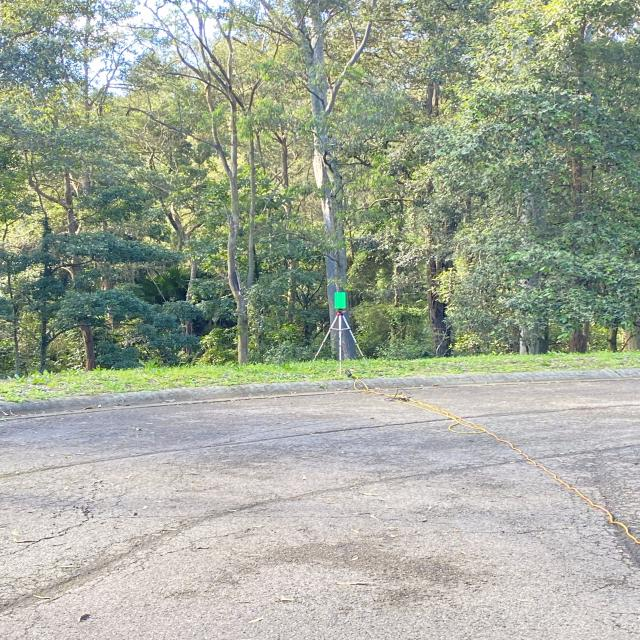matrix: (332, 291, 348, 310)
